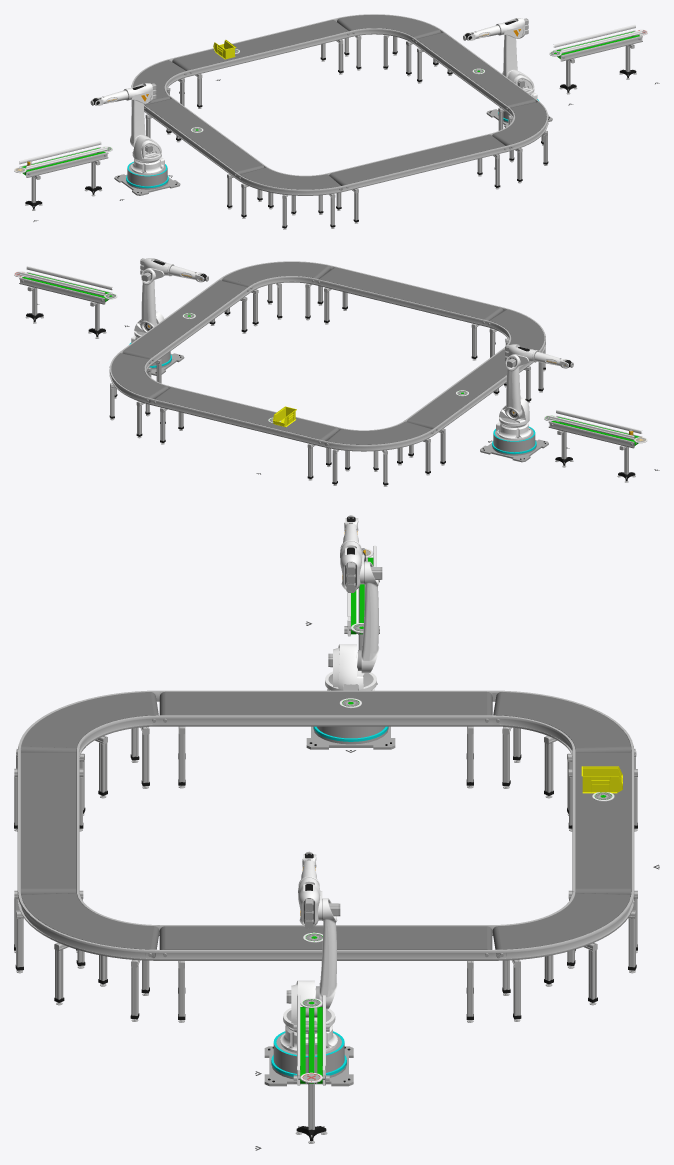
Rendered from PM Closed Conveyor Loop.centered.glb.
The picture shows the model from 3 angles, top to bottom: view 1: azimuth 30°, elevation 25°; view 2: azimuth 150°, elevation 25°; view 3: azimuth 270°, elevation 25°; orthographic projection. The views are drawn at different scales.
Visible parts, largest first — view 1: Mesh_05eg, Mesh_06xg, Mesh_07fg, Mesh_06Eg, Mesh_08Vg, Mesh_04Cg, Mesh_03Pg, Mesh_05Ag, Mesh_05jg, Mesh_04zg, Mesh_07sg, Mesh_07Ag (+16 smaller); view 2: Mesh_05eg, Mesh_07fg, Mesh_06Eg, Mesh_06xg, Mesh_04zg, Mesh_03Pg, Mesh_04Cg, Mesh_05kg, Mesh_059g, Mesh_08Vg, Mesh_04Mg, Mesh_07Ag (+17 smaller); view 3: Mesh_06xg, Mesh_05eg, Mesh_07fg, Mesh_06Eg, Mesh_06Sg, Mesh_03Pg, Mesh_04Cg, Mesh_04zg, Mesh_08Vg, Mesh_07Bg, Mesh_02mg, Mesh_03Zg (+7 smaller).
Boxes of the visible parts, bbox=[...] form: Mesh_05eg: bbox=[332, 134, 504, 184]; Mesh_06xg: bbox=[145, 99, 262, 171]; Mesh_07fg: bbox=[416, 32, 533, 105]; Mesh_06Eg: bbox=[175, 20, 347, 69]; Mesh_08Vg: bbox=[240, 167, 339, 189]; Mesh_04Cg: bbox=[340, 15, 438, 36]; Mesh_03Pg: bbox=[495, 102, 546, 144]; Mesh_05Ag: bbox=[344, 145, 508, 191]; Mesh_05jg: bbox=[188, 31, 351, 76]; Mesh_04zg: bbox=[133, 60, 184, 99]; Mesh_07sg: bbox=[236, 173, 345, 195]; Mesh_07Ag: bbox=[413, 38, 508, 112]; Mesh_05eg: bbox=[319, 267, 499, 319]; Mesh_07fg: bbox=[124, 280, 247, 356]; Mesh_06Eg: bbox=[155, 387, 335, 439]; Mesh_06xg: bbox=[408, 350, 507, 426]; Mesh_04zg: bbox=[328, 422, 431, 444]; Mesh_03Pg: bbox=[224, 262, 327, 284]; Mesh_04Cg: bbox=[111, 353, 165, 397]; Mesh_05kg: bbox=[151, 399, 322, 446]; Mesh_059g: bbox=[315, 279, 486, 326]; Mesh_08Vg: bbox=[490, 309, 544, 350]; Mesh_04Mg: bbox=[322, 427, 436, 451]; Mesh_07Ag: bbox=[151, 286, 250, 364]; Mesh_06xg: bbox=[165, 691, 486, 715]; Mesh_05eg: bbox=[21, 752, 76, 888]; Mesh_07fg: bbox=[165, 926, 486, 949]; Mesh_06Eg: bbox=[575, 752, 630, 888]; Mesh_06Sg: bbox=[159, 715, 492, 726]; Mesh_03Pg: bbox=[21, 893, 153, 949]; Mesh_04Cg: bbox=[498, 893, 630, 949]; Mesh_04zg: bbox=[498, 692, 630, 748]; Mesh_08Vg: bbox=[21, 692, 153, 747]; Mesh_07Bg: bbox=[159, 950, 492, 960]; Mesh_02mg: bbox=[17, 891, 159, 960]; Mesh_03Zg: bbox=[492, 891, 634, 960].
Size of the model in its own units: 11.39 by 1.99 by 5.82.
21 materials, 1 textured.
